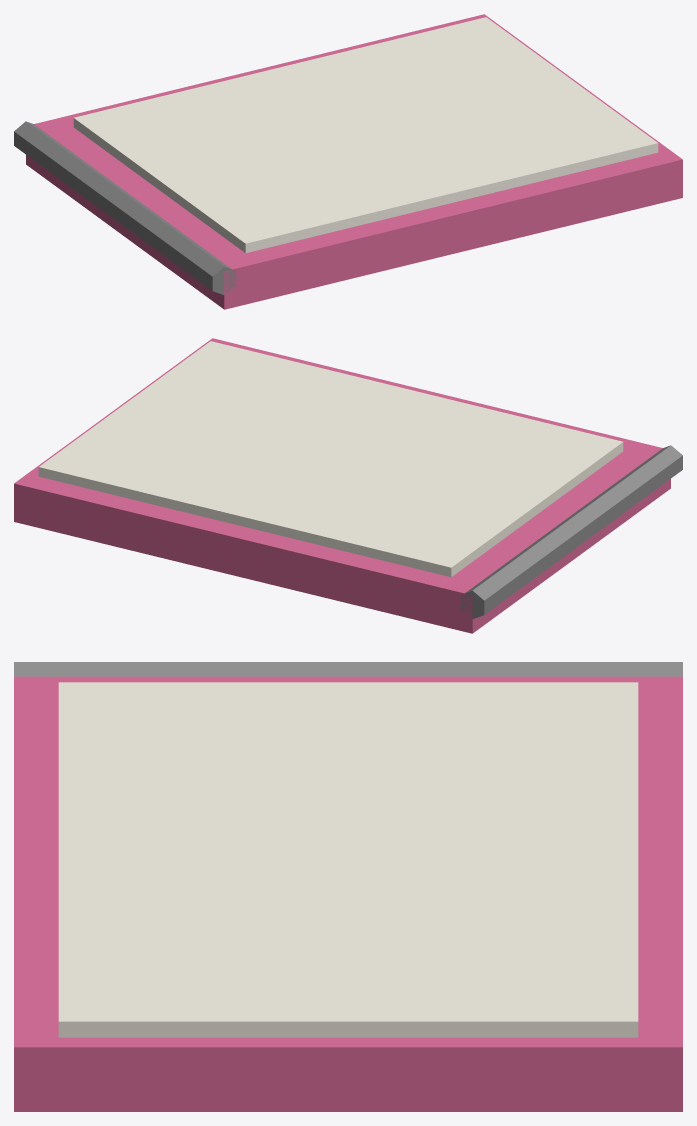
Rendered from fake_orders_notebook.glb.
3 views of the same model, one above another, from view 1: azimuth 30°, elevation 25°; view 2: azimuth 150°, elevation 25°; view 3: azimuth 270°, elevation 25° (orthographic). The views are drawn at different scales.
Visible parts, largest first — view 1: page_fake_page, cover_fake_pink, spiral_fake_wire; view 2: page_fake_page, cover_fake_pink, spiral_fake_wire; view 3: page_fake_page, cover_fake_pink, spiral_fake_wire.
Boxes of the visible parts, bbox=[...] form: page_fake_page: bbox=[73, 17, 658, 253]; cover_fake_pink: bbox=[26, 14, 682, 309]; spiral_fake_wire: bbox=[14, 121, 236, 294]; page_fake_page: bbox=[38, 341, 623, 577]; cover_fake_pink: bbox=[14, 338, 670, 633]; spiral_fake_wire: bbox=[460, 445, 682, 618]; page_fake_page: bbox=[58, 682, 638, 1037]; cover_fake_pink: bbox=[14, 676, 682, 1111]; spiral_fake_wire: bbox=[14, 662, 682, 676].
Bounding box in the file's own units: 0.2052 × 0.02 × 0.15.
